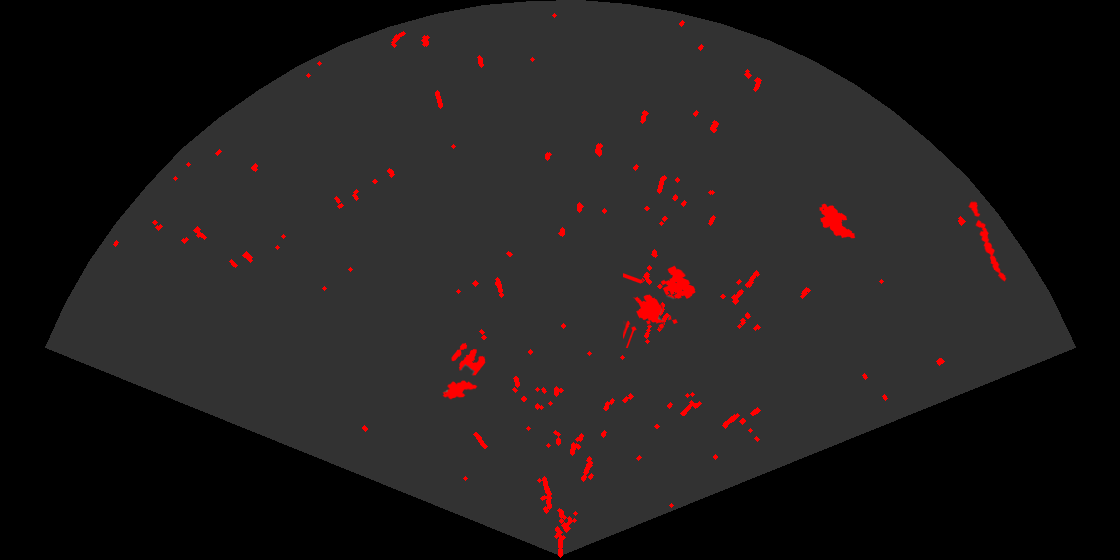AUV: (818, 202, 857, 240), (441, 379, 479, 401)
ball: (450, 341, 487, 377)
cage: (623, 264, 697, 348)
chain: (966, 198, 1008, 284)
